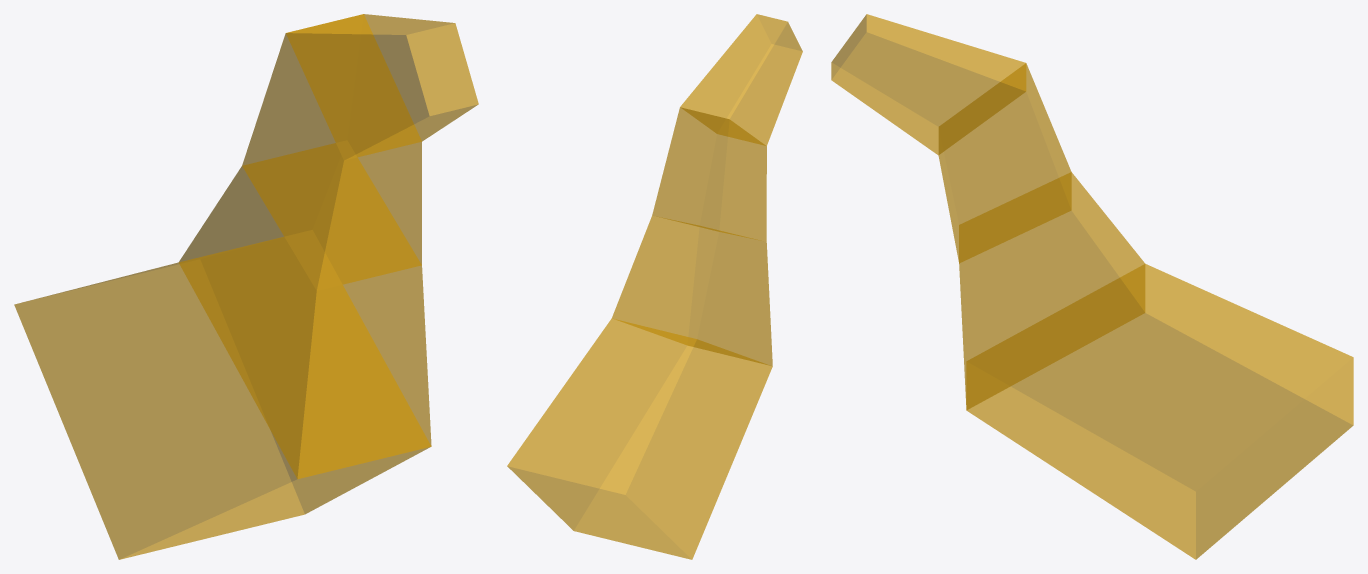
File: SM_Veh_Ship_M_Figurehead_06_Collision.fbx
The picture shows the model from 3 angles, left to right: view 1: azimuth 30°, elevation 25°; view 2: azimuth 150°, elevation 25°; view 3: azimuth 270°, elevation 25°; orthographic projection. The views are drawn at different scales.
Parts seen in each view (by area): view 1: SM_Veh_Ship_M_Figurehead_06_Collision; view 2: SM_Veh_Ship_M_Figurehead_06_Collision; view 3: SM_Veh_Ship_M_Figurehead_06_Collision.
Part boxes in pixels (x1,y1,x2,y2): SM_Veh_Ship_M_Figurehead_06_Collision: [14, 14, 478, 559]; SM_Veh_Ship_M_Figurehead_06_Collision: [507, 14, 802, 559]; SM_Veh_Ship_M_Figurehead_06_Collision: [831, 14, 1353, 559].
Size of the model in its own units: 203 by 698 by 657.
